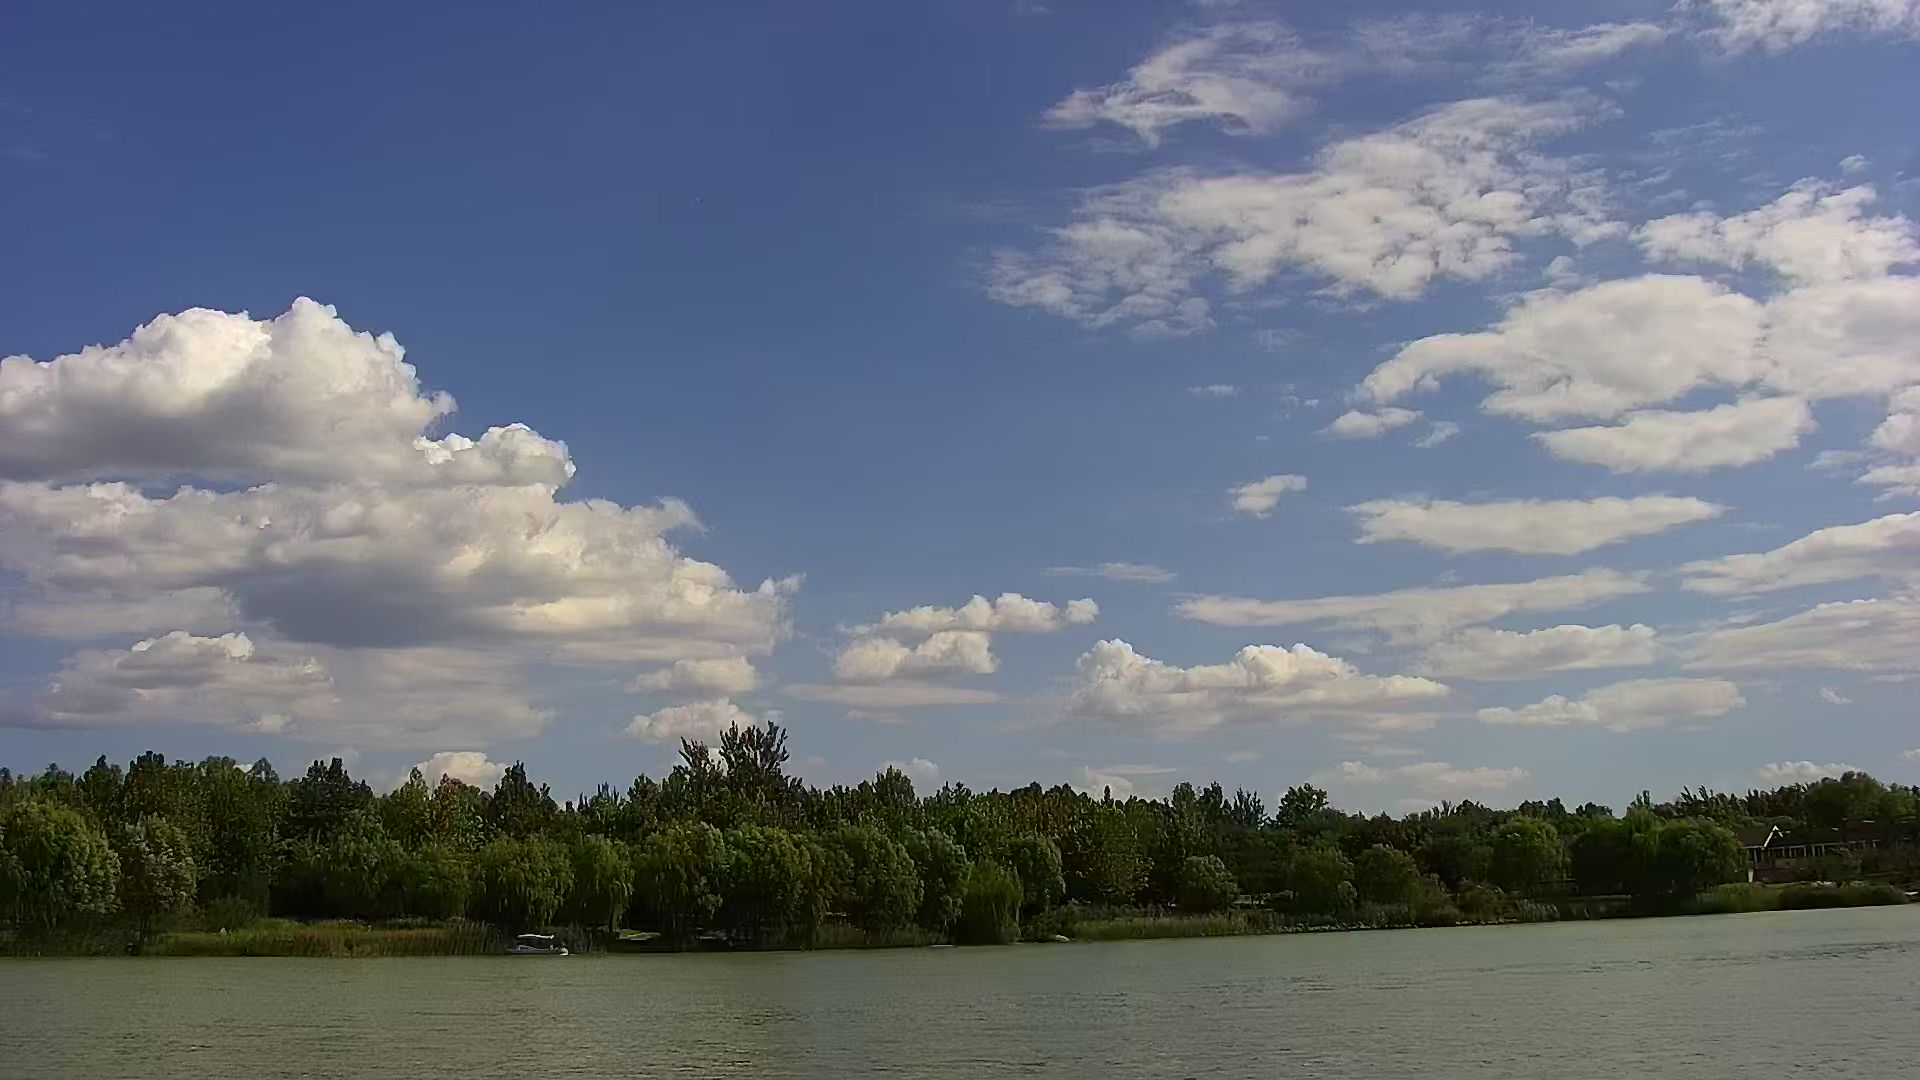boat: (502, 927, 571, 963)
